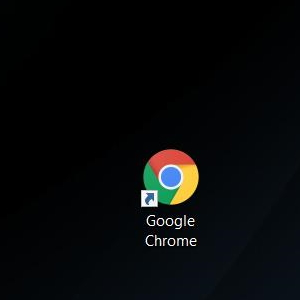chrome: (140, 148, 199, 208)
